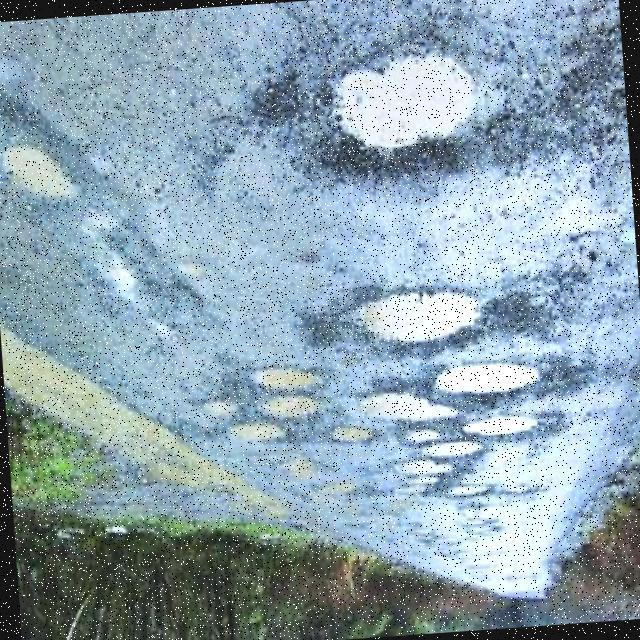Pothole: (341, 55, 475, 147), (364, 292, 481, 339), (437, 363, 541, 391), (360, 393, 456, 417), (463, 412, 566, 434), (255, 392, 321, 419), (255, 366, 311, 388), (401, 459, 448, 477), (238, 422, 283, 440), (422, 441, 474, 456), (330, 424, 371, 442), (446, 484, 493, 499), (282, 396, 317, 415)
